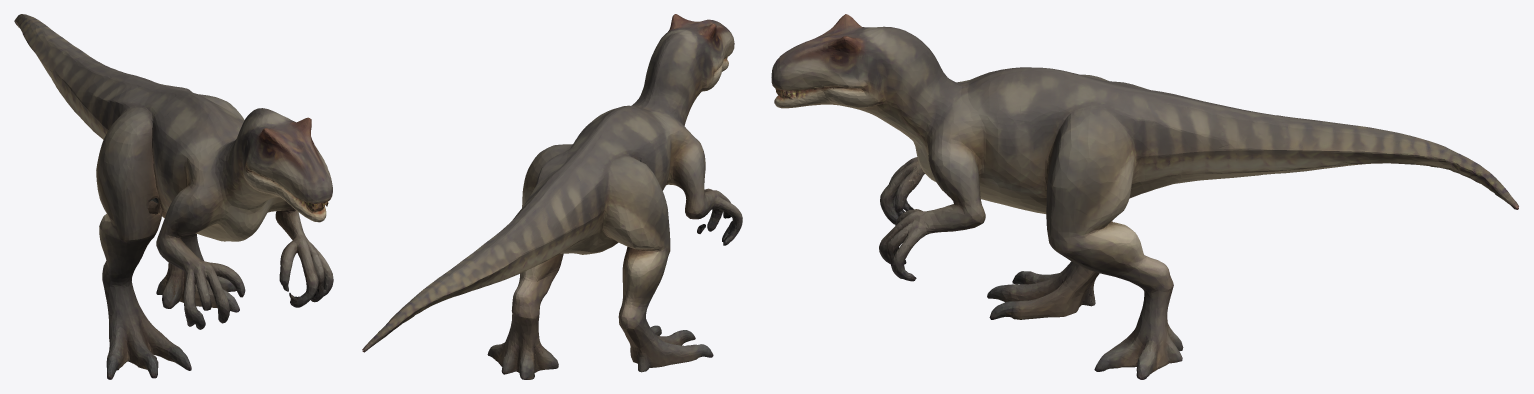
3 renders of one model, left to right at view 1: azimuth 30°, elevation 25°; view 2: azimuth 150°, elevation 25°; view 3: azimuth 270°, elevation 25°, orthographic. The views are drawn at different scales.
Parts seen in each view (by area): view 1: world; view 2: world; view 3: world.
Part boxes in pixels (x1,y1,x2,y2): world: (14, 14, 333, 379); world: (362, 14, 742, 379); world: (771, 14, 1518, 379).
Size of the model in its own units: 2.8 by 4.13 by 9.
1 material, 1 textured.
